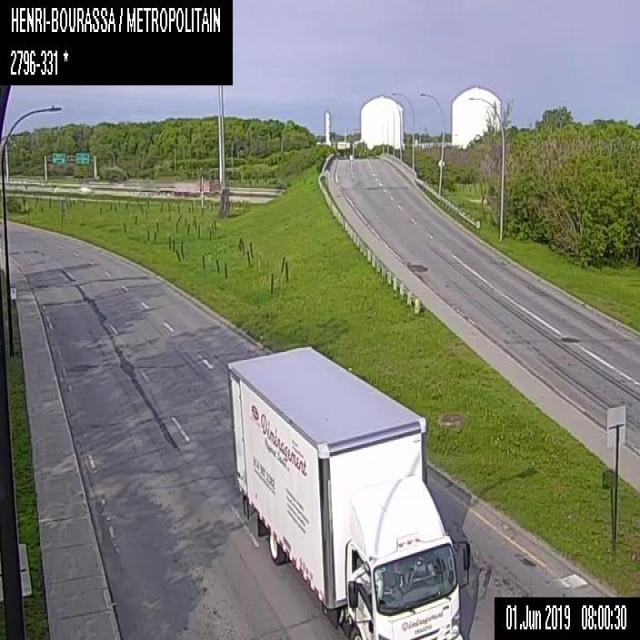vehicle: (225, 341, 469, 639)
